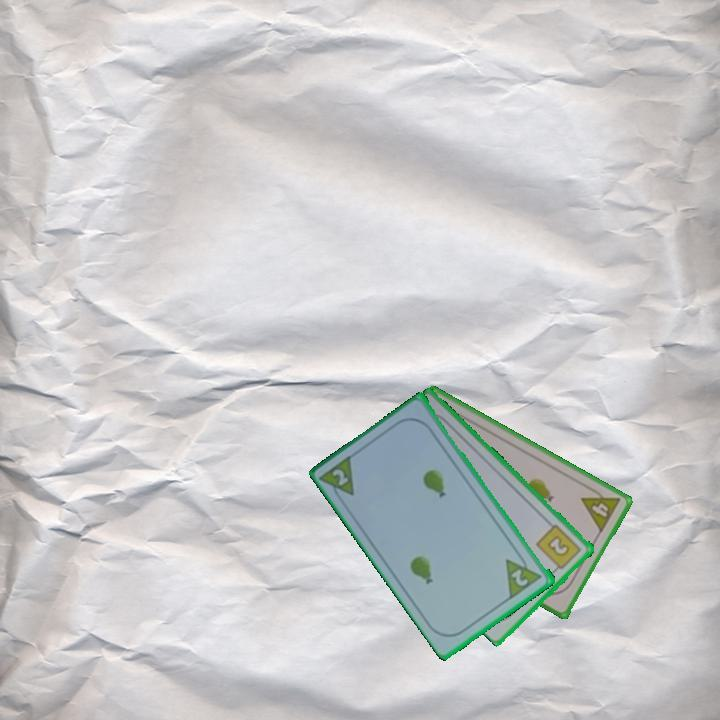2b: (533, 521, 584, 575)
2p: (508, 565, 532, 590), (329, 465, 352, 489)
4p: (578, 482, 624, 536)
